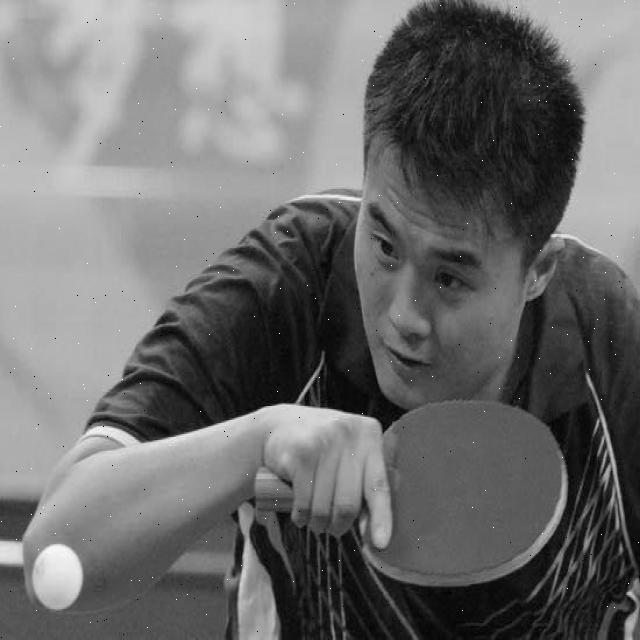ping-pong-ball: (31, 546, 84, 613)
